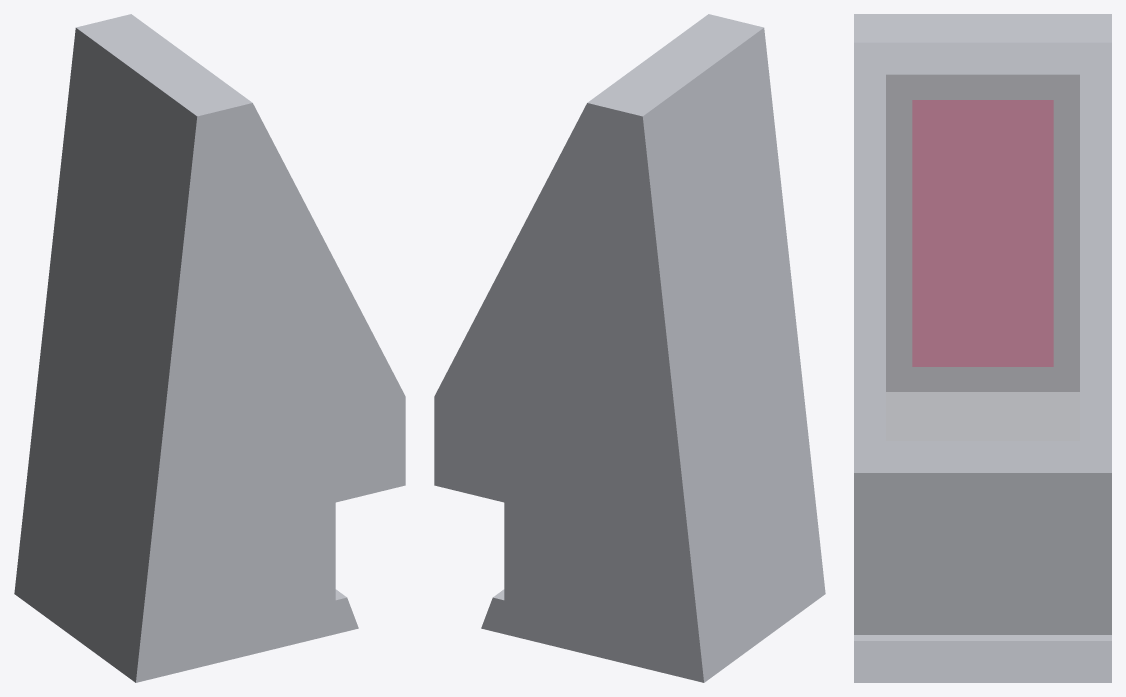
3 views of the same model, side by side, from view 1: azimuth 30°, elevation 25°; view 2: azimuth 150°, elevation 25°; view 3: azimuth 270°, elevation 25° (orthographic). The views are drawn at different scales.
Visible parts, largest first — view 1: object_052-col; view 2: object_052-col; view 3: object_052-col.
Part boxes in pixels (x1,y1,x2,y2): object_052-col: (14, 14, 405, 682); object_052-col: (434, 14, 825, 682); object_052-col: (854, 14, 1111, 682).
Size of the model in its own units: 0.298 by 0.5821 by 0.2324.
